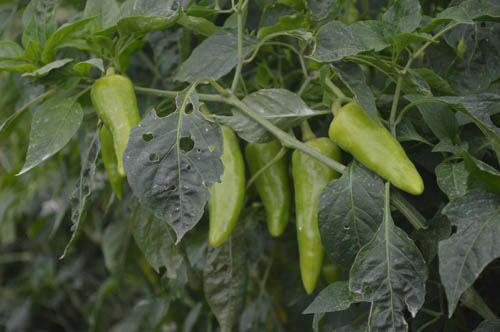ChiliPepper: (328, 104, 427, 194), (289, 139, 330, 295), (199, 126, 245, 254), (95, 77, 144, 177), (246, 138, 290, 238), (90, 134, 126, 199)
